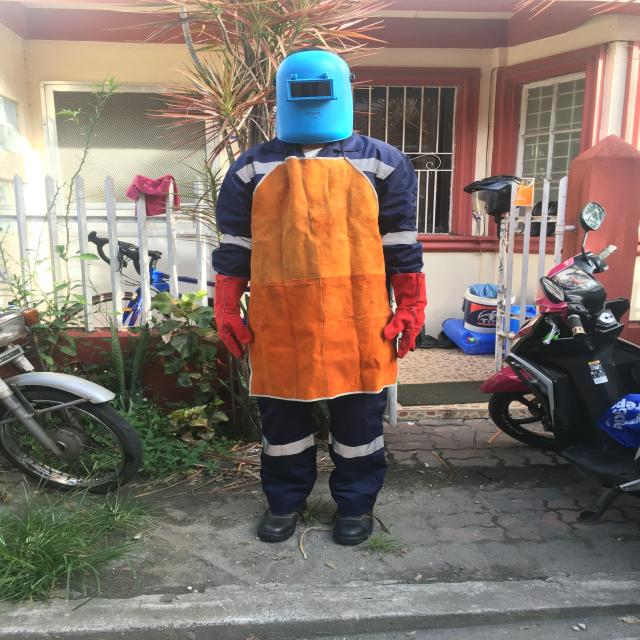with_helmet: (250, 45, 368, 157)
